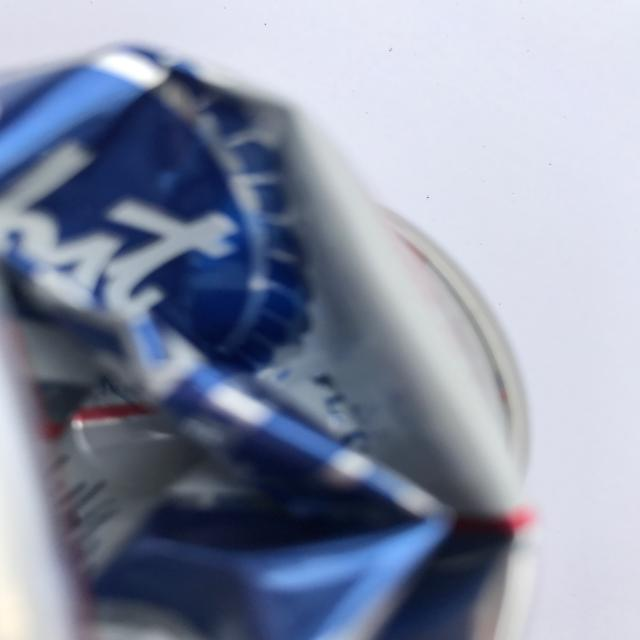metal: (0, 39, 534, 640)
